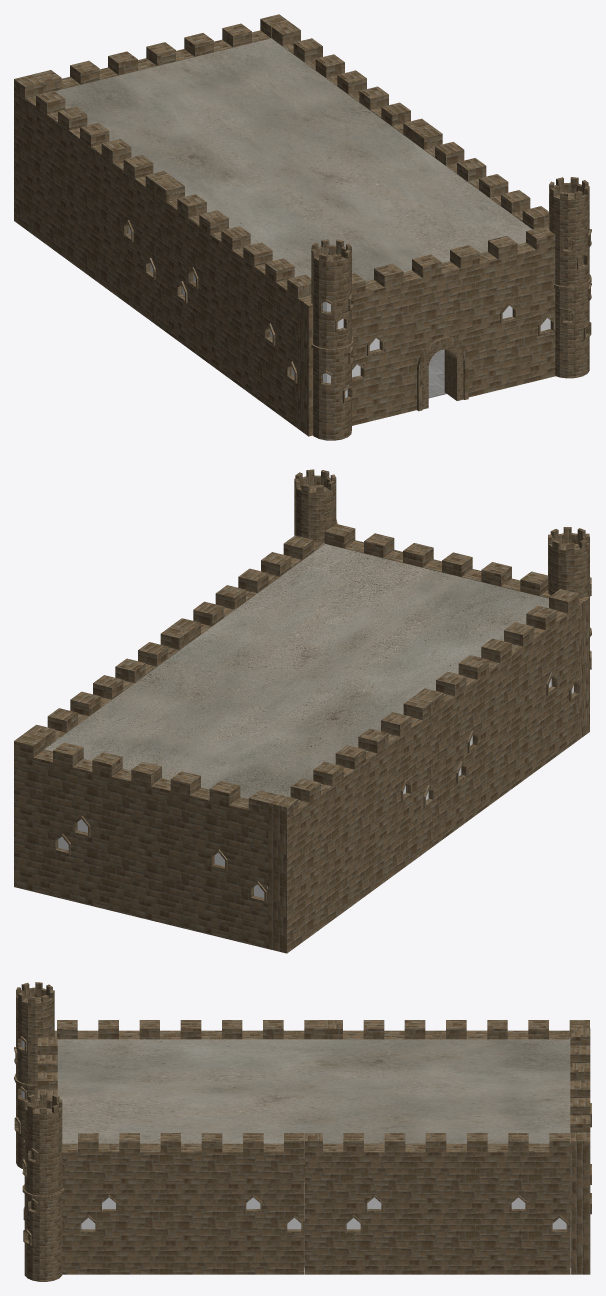
File: CASTLE4.fbx
The picture shows the model from 3 angles, top to bottom: view 1: azimuth 30°, elevation 25°; view 2: azimuth 150°, elevation 25°; view 3: azimuth 270°, elevation 25°; orthographic projection. The views are drawn at different scales.
Visible parts, largest first — view 1: Castle_ceiling, Castle_Main.006, Castle_Main.001, Castle_Main.002, Castle_Tower, Castle_Tower2, Castle_Main.003, Castle_Main.004, Castle_Main.005, Castle_Door, Castle_Floor; view 2: Castle_ceiling, Castle_Main.003, Castle_Main.002, Castle_Main.001, Castle_Main.006, Castle_Main.004, Castle_Main.005, Castle_Tower, Castle_Tower2; view 3: Castle_ceiling, Castle_Main.004, Castle_Main.005, Castle_Tower2, Castle_Main.003, Castle_Main.001, Castle_Tower, Castle_Main.002, Castle_Main.006.
Boxes of the visible parts, box(x1,y1,x2,y2) form: Castle_ceiling: box(55, 38, 532, 281); Castle_Main.006: box(298, 226, 555, 436); Castle_Main.001: box(155, 178, 311, 428); Castle_Main.002: box(14, 74, 173, 323); Castle_Tower: box(311, 239, 353, 440); Castle_Tower2: box(549, 177, 591, 378); Castle_Main.003: box(32, 14, 289, 93); Castle_Main.004: box(271, 22, 430, 141); Castle_Main.005: box(413, 125, 555, 375); Castle_Door: box(417, 337, 463, 410); Castle_Floor: box(428, 349, 446, 398); Castle_ceiling: box(44, 543, 548, 799); Castle_Main.003: box(14, 733, 278, 948); Castle_Main.002: box(268, 696, 434, 953); Castle_Main.001: box(414, 589, 579, 846); Castle_Main.006: box(324, 524, 589, 739); Castle_Main.004: box(25, 626, 189, 748); Castle_Main.005: box(171, 535, 324, 642); Castle_Tower: box(548, 527, 591, 669); Castle_Tower2: box(294, 469, 337, 542); Castle_ceiling: box(57, 1037, 570, 1145); Castle_Main.004: box(305, 1133, 569, 1274); Castle_Main.005: box(62, 1133, 304, 1274); Castle_Tower2: box(22, 1093, 64, 1281); Castle_Main.003: box(570, 1028, 591, 1274); Castle_Main.001: box(57, 1020, 324, 1039); Castle_Tower: box(14, 982, 54, 1168); Castle_Main.002: box(325, 1020, 589, 1039); Castle_Main.006: box(37, 1030, 57, 1099).
Size of the model in its own units: 2190 by 1361 by 4105.
Materials: 12 (6 with a texture image).
